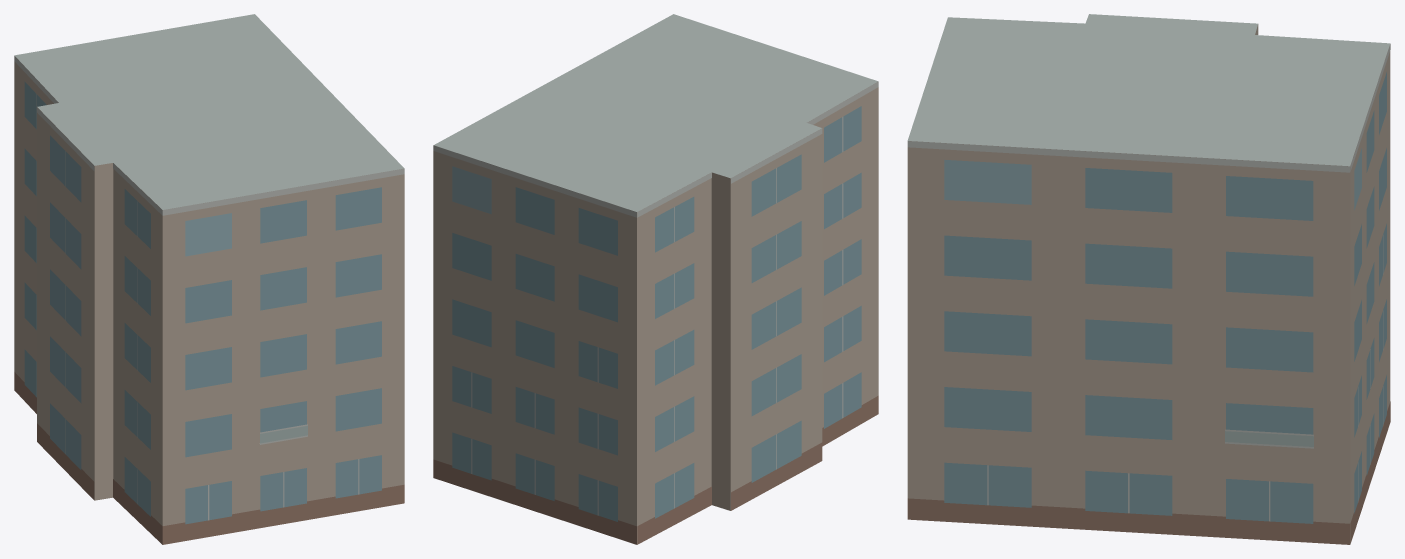
Rendered from survey-upis-32888456.glb.
The picture shows the model from 3 angles, left to right: view 1: azimuth 30°, elevation 25°; view 2: azimuth 150°, elevation 25°; view 3: azimuth 270°, elevation 25°; orthographic projection. The views are drawn at different scales.
Parts seen in each view (by area): view 1: survey-upis-32888456.tmp; view 2: survey-upis-32888456.tmp; view 3: survey-upis-32888456.tmp.
Boxes of the visible parts, x1,y1,x2,y2 form: survey-upis-32888456.tmp: (14,14,404,544); survey-upis-32888456.tmp: (433,14,878,544); survey-upis-32888456.tmp: (907,14,1390,544).
Size of the model in its own units: 12.34 by 14.3 by 16.54.
